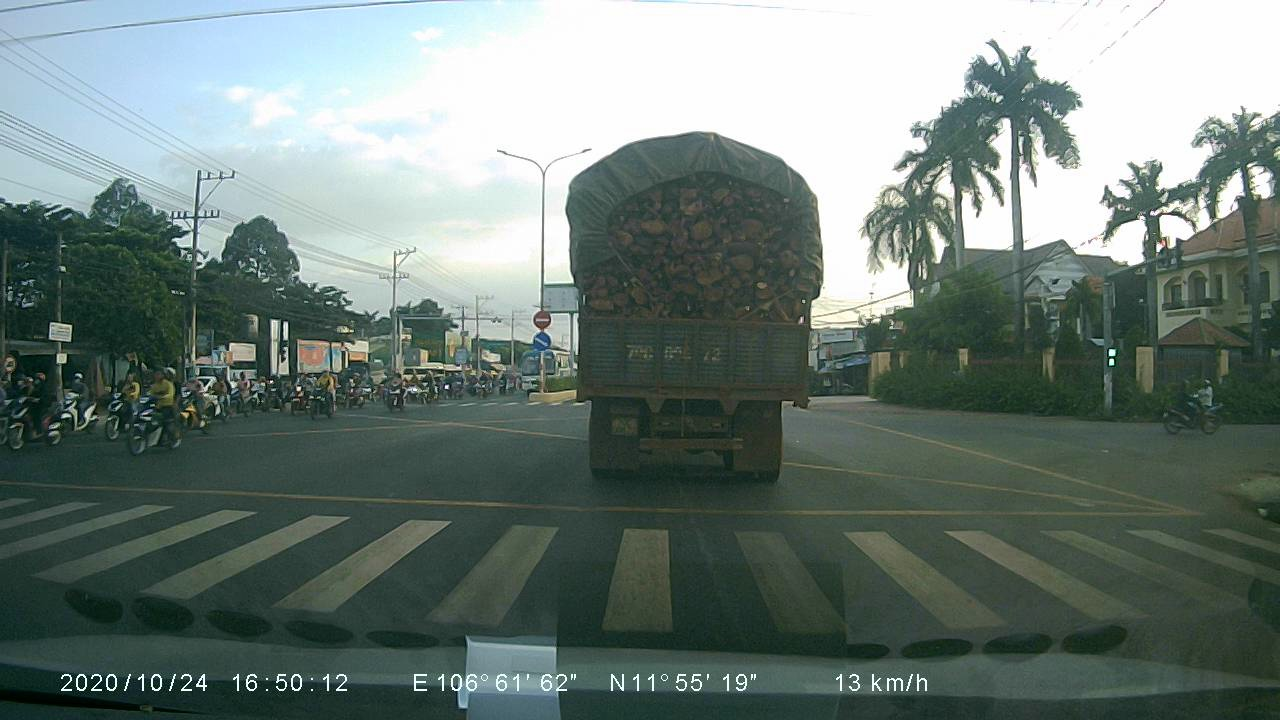Cam di nguoc chieu: (532, 307, 555, 329)
Huong di phai re phai: (532, 331, 554, 352)
